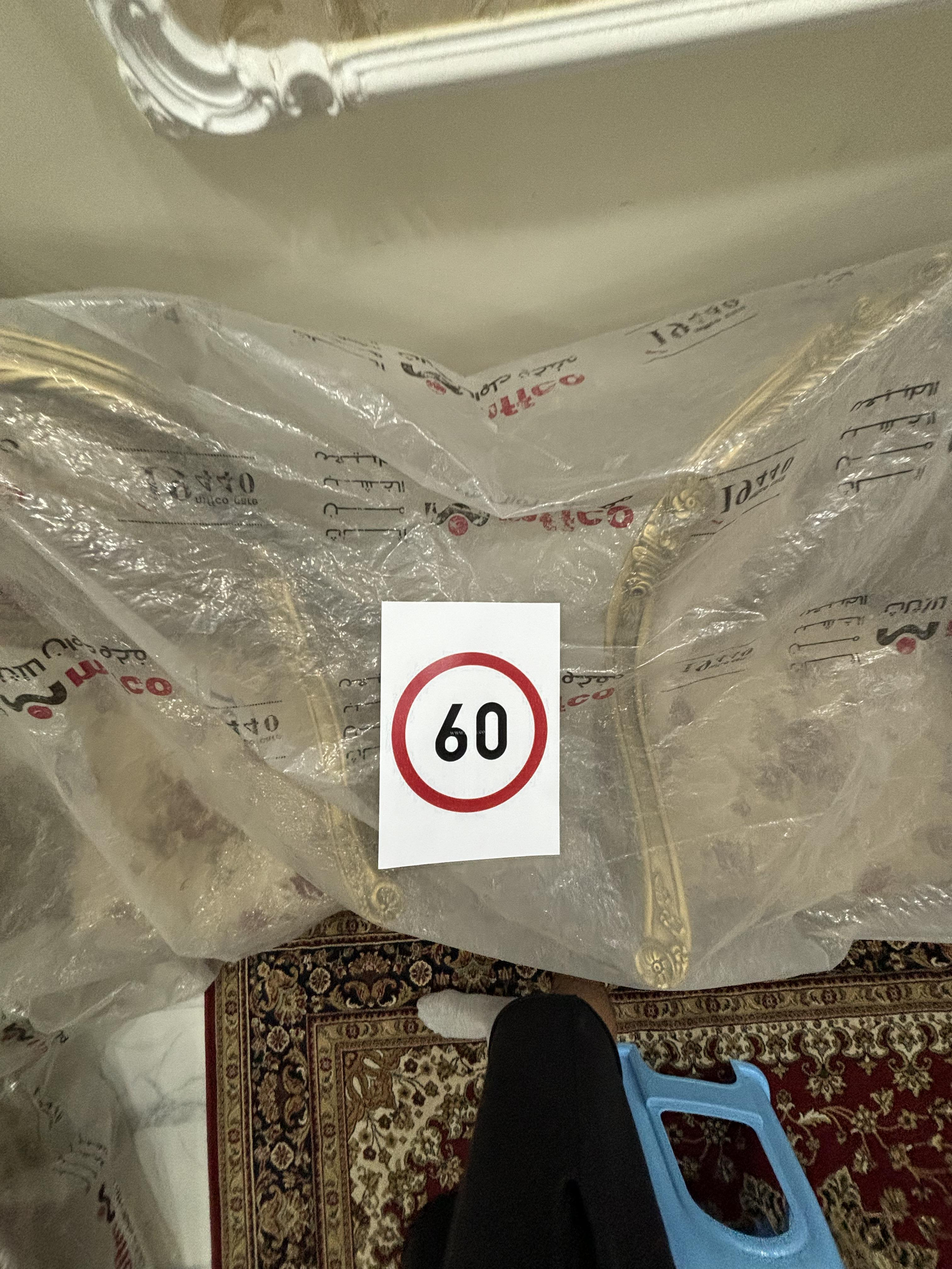60-Speed: (391, 649, 551, 820)
